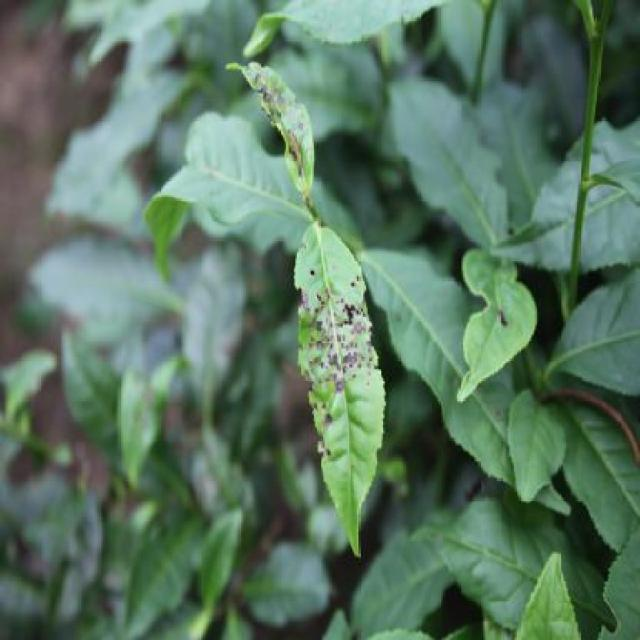Tea Mosquito bug infested leaf: (297, 203, 383, 552), (237, 20, 321, 189)
